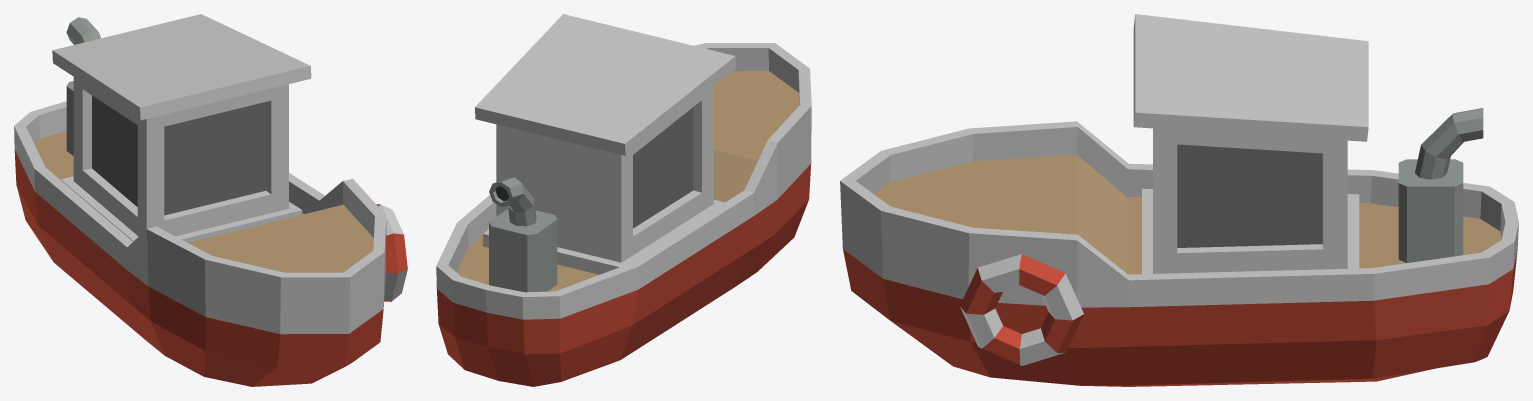
The model's file is Boat.fbx.
3 views of the same model, side by side, from view 1: azimuth 30°, elevation 25°; view 2: azimuth 150°, elevation 25°; view 3: azimuth 270°, elevation 25° (orthographic). The views are drawn at different scales.
Visible parts, largest first — view 1: Boat; view 2: Boat; view 3: Boat.
Boxes of the visible parts, <box> form: Boat: <box>14,14,407,386</box>; Boat: <box>436,14,811,386</box>; Boat: <box>840,14,1518,386</box>.
Bounding box in the file's own units: 2.86 × 3.08 × 6.28.
